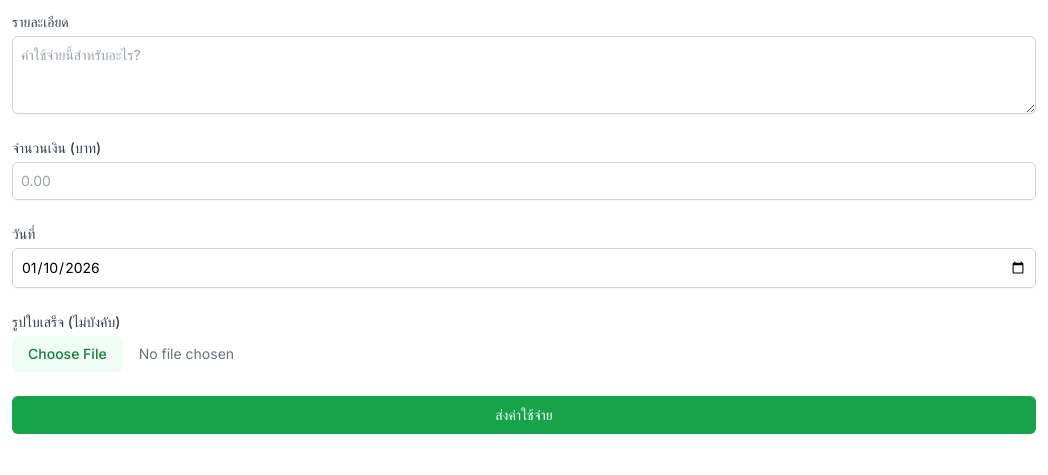
Test: ExpenseForm › should show error for negative amount
Step 1. Type "Test expense" into the text box labelled "รายละเอียด" → point(524, 75), box [12,36,1036,114]
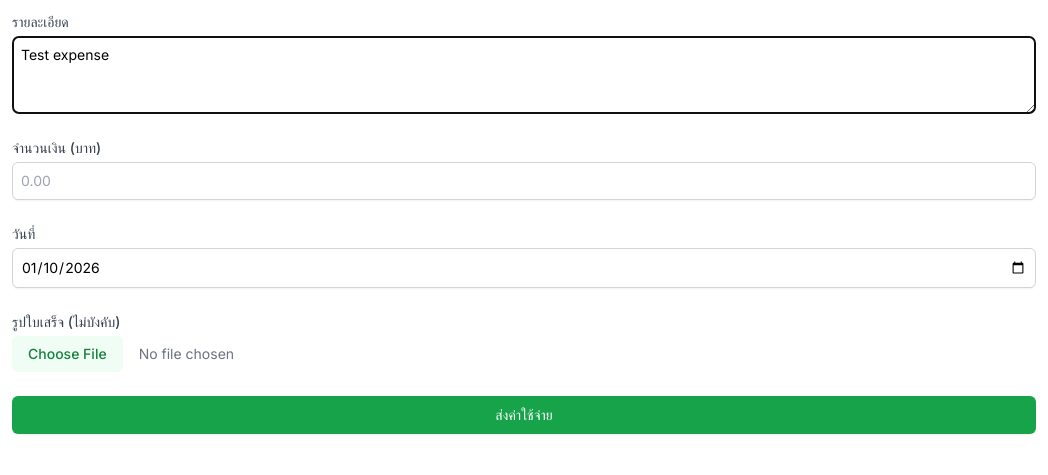
Step 2. Type "-100" into the number field labelled "จำนวนเงิน (บาท)" → point(524, 181), box [12,162,1036,200]
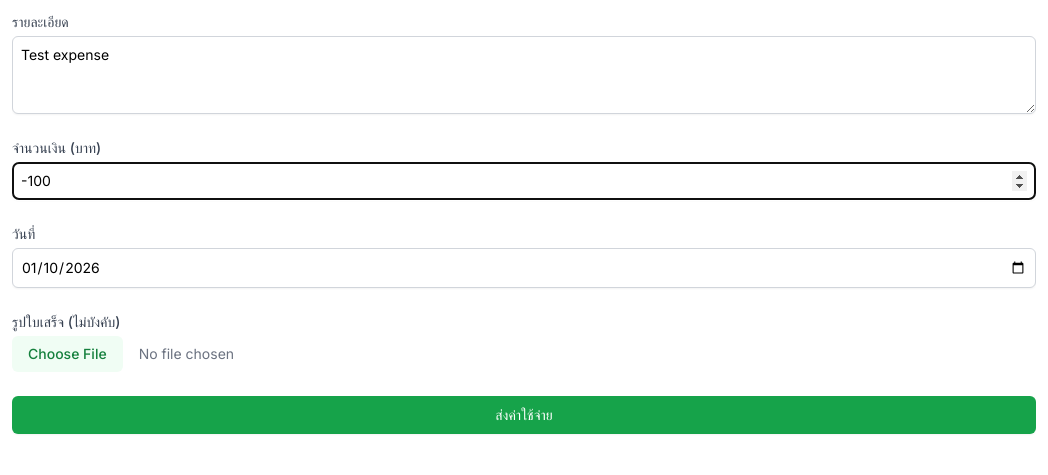
Step 3. Click the button "ส่งค่าใช้จ่าย" → point(524, 415), box [12,396,1036,434]
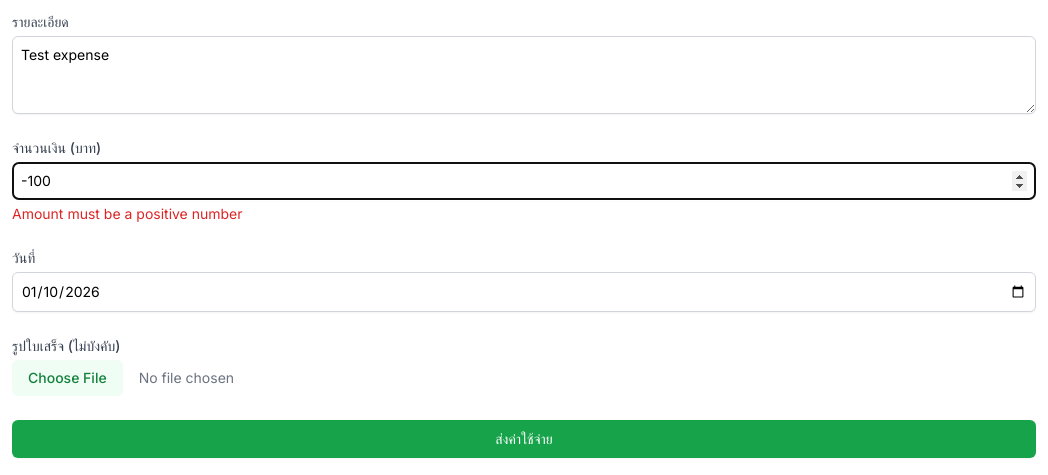
Check: the text "Amount must be a positive number" is shown, box [12,205,242,222]
